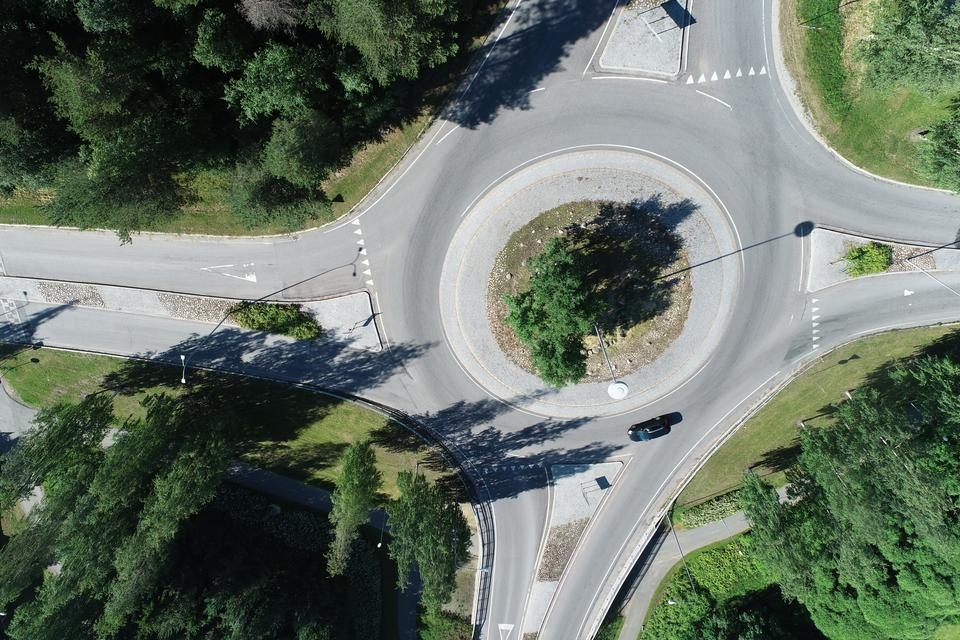roundabout: (323, 25, 879, 477)
